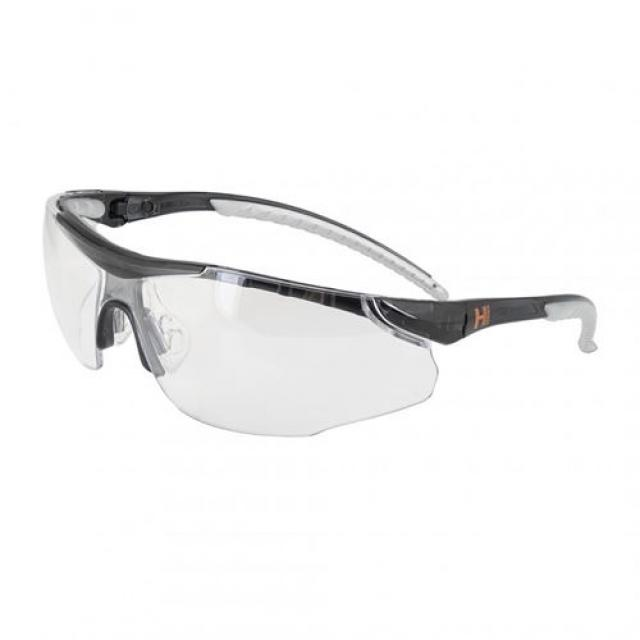Protective Glasses: (16, 150, 621, 495)
